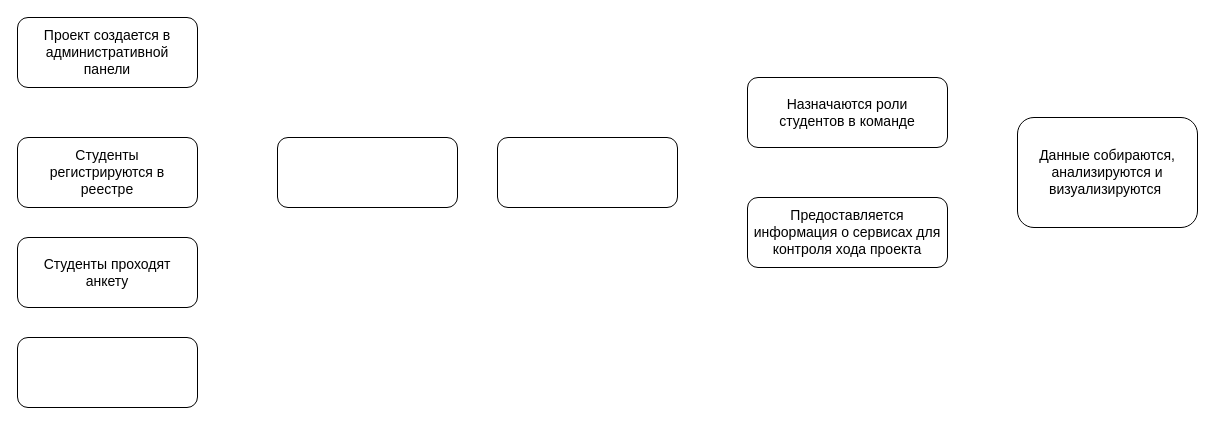
This 1215x425 diagram has some shape labels left out. Here are the shapes that lost their labels. From the top down, the box of each, then its label:
(276, 136, 458, 208): Представитель команды рассылает презентацию о команде на проекты
(496, 136, 678, 208): Утверждаются команды-исполнители
(16, 336, 198, 408): Студенты объединяются в команды
